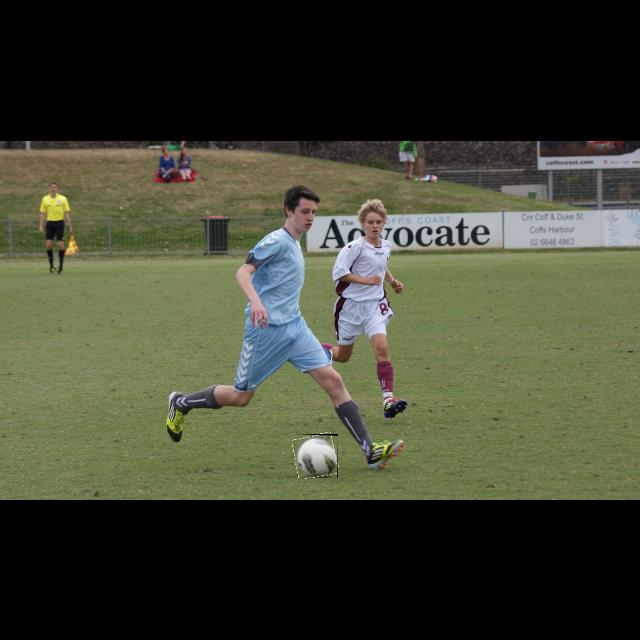Football: (294, 434, 338, 478)
